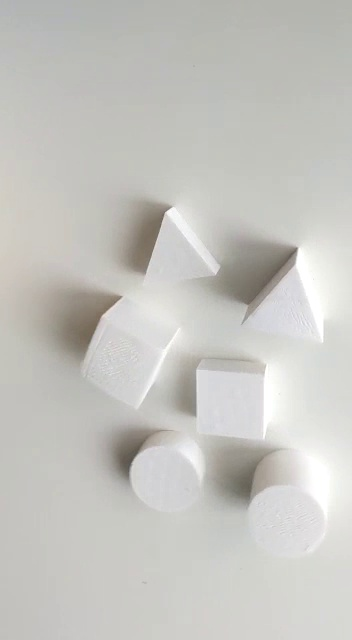Clyinder_short: (122, 427, 207, 513)
Cube: (75, 294, 184, 417)
Cube_short: (190, 355, 269, 444)
Cylinder: (244, 442, 332, 558)
Triangle: (241, 244, 326, 346)
Triangle_short: (130, 208, 223, 290)
